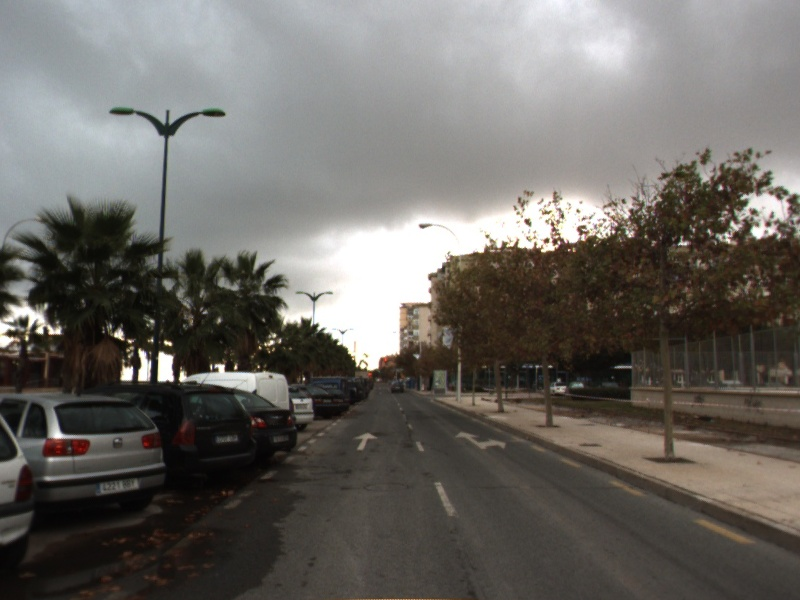STRAIGHT: (351, 431, 379, 452)
STRAIGHT_RIGHT: (453, 429, 508, 451)
